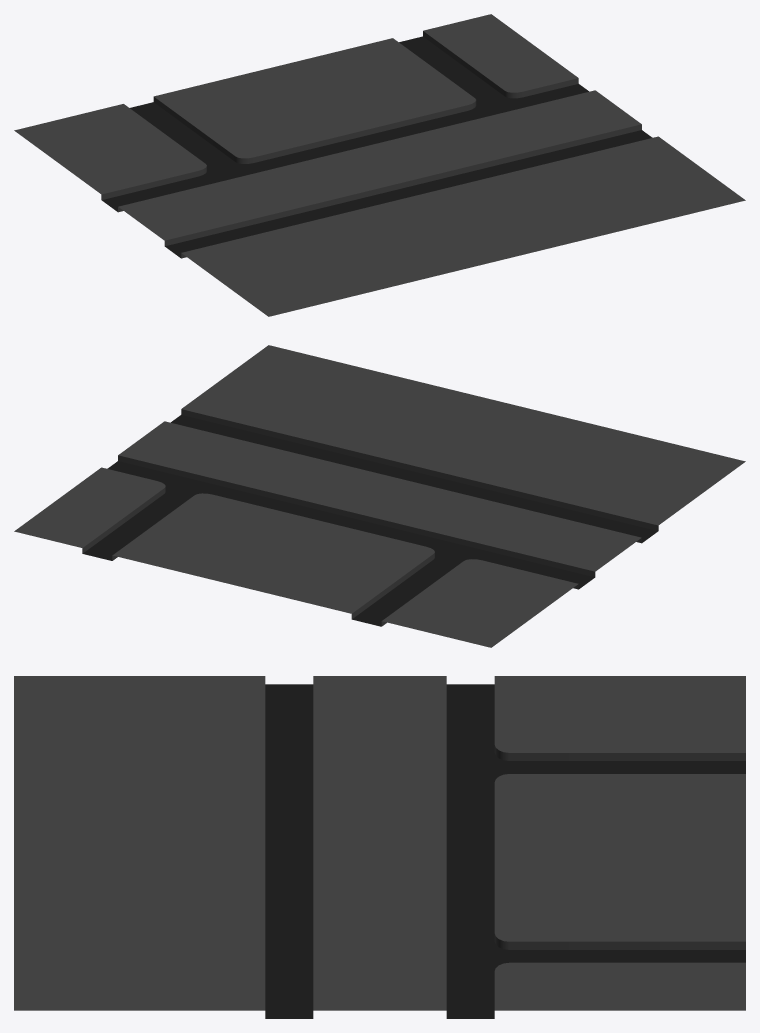
Rendered from Floor_2.fbx.
The picture shows the model from 3 angles, top to bottom: view 1: azimuth 30°, elevation 25°; view 2: azimuth 150°, elevation 25°; view 3: azimuth 270°, elevation 25°; orthographic projection. The views are drawn at different scales.
Parts seen in each view (by area): view 1: Plane.010; view 2: Plane.010; view 3: Plane.010.
Part boxes in pixels (box(x1,y1,x2,y2)): Plane.010: box(14, 14, 745, 316); Plane.010: box(14, 345, 745, 647); Plane.010: box(14, 676, 745, 1018).
Bounding box in the file's own units: 9572 × 109 × 8846.
